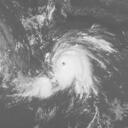cyclone: (51, 46, 99, 97)
